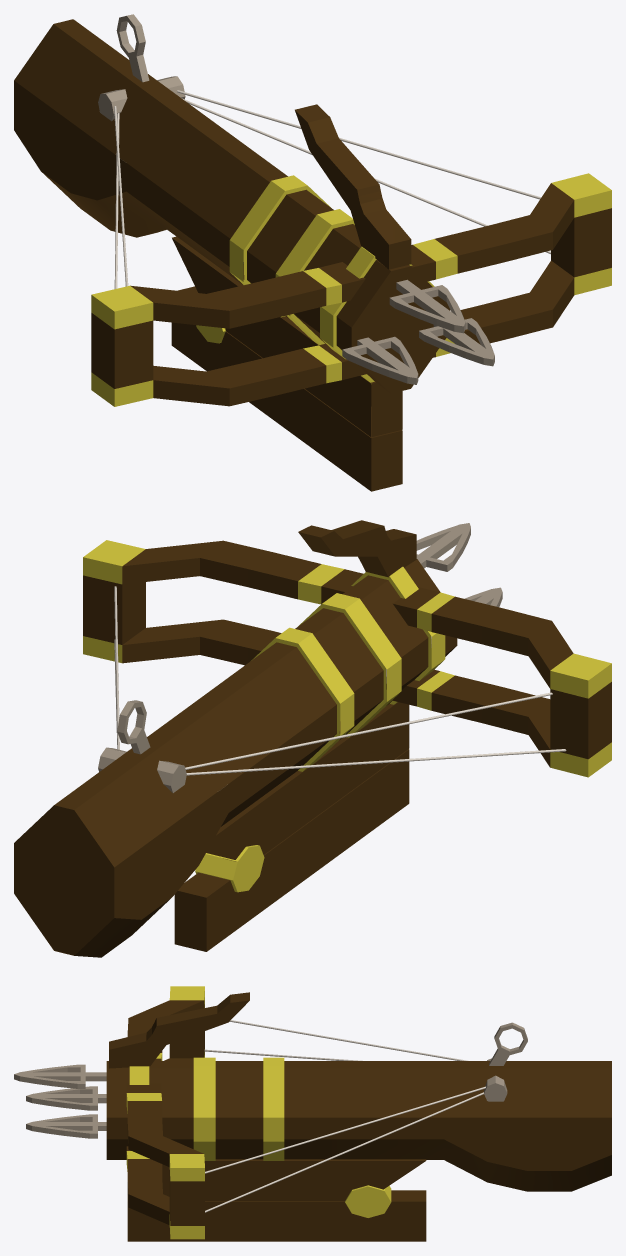
The model's file is darkness_tower_arrow3.FBX.
The picture shows the model from 3 angles, top to bottom: view 1: azimuth 30°, elevation 25°; view 2: azimuth 150°, elevation 25°; view 3: azimuth 270°, elevation 25°; orthographic projection. The views are drawn at different scales.
Visible parts, largest first — view 1: bow3; view 2: bow3; view 3: bow3.
Part boxes in pixels (<box>): bow3: <box>14,14,611,491</box>; bow3: <box>14,520,611,957</box>; bow3: <box>14,986,611,1241</box>.
Bounding box in the file's own units: 7.44 × 4.58 × 10.35.
